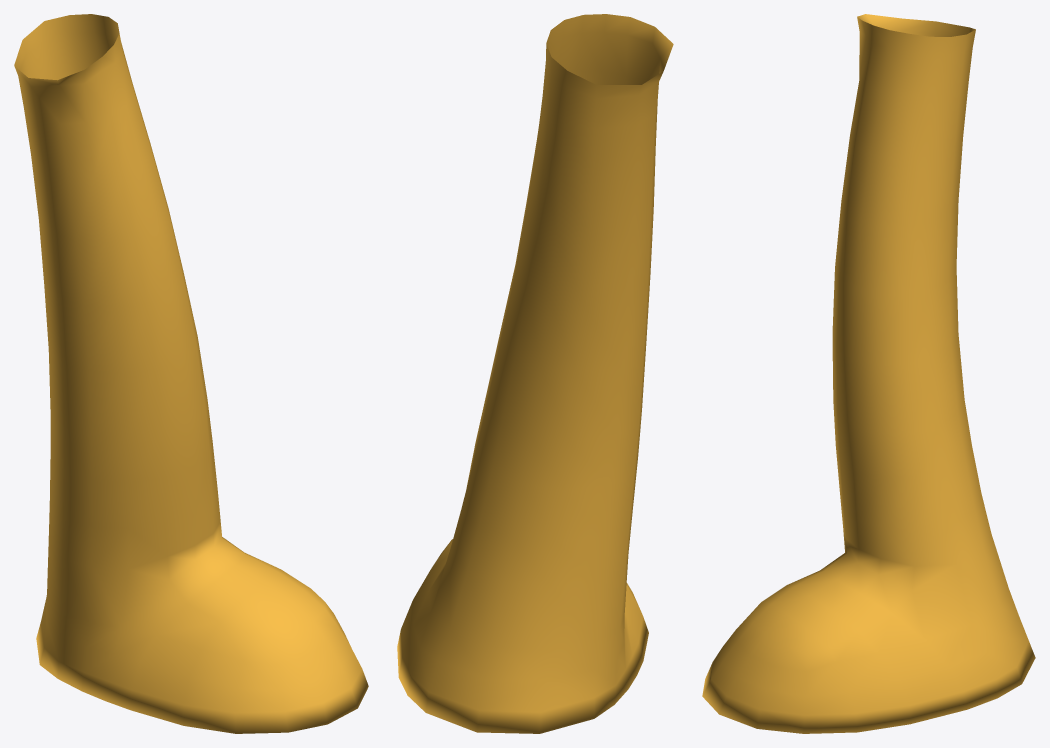
Rendered from L_leg.obj.
3 renders of one model, left to right at view 1: azimuth 30°, elevation 25°; view 2: azimuth 150°, elevation 25°; view 3: azimuth 270°, elevation 25°, orthographic. The views are drawn at different scales.
Visible parts, largest first — view 1: L_leg Jake; view 2: L_leg Jake; view 3: L_leg Jake.
Part boxes in pixels (x1,y1,x2,y2): L_leg Jake: [14, 14, 368, 733]; L_leg Jake: [397, 14, 673, 733]; L_leg Jake: [702, 14, 1035, 733].
Bounding box in the file's own units: 1.98 × 4.48 × 2.19.
